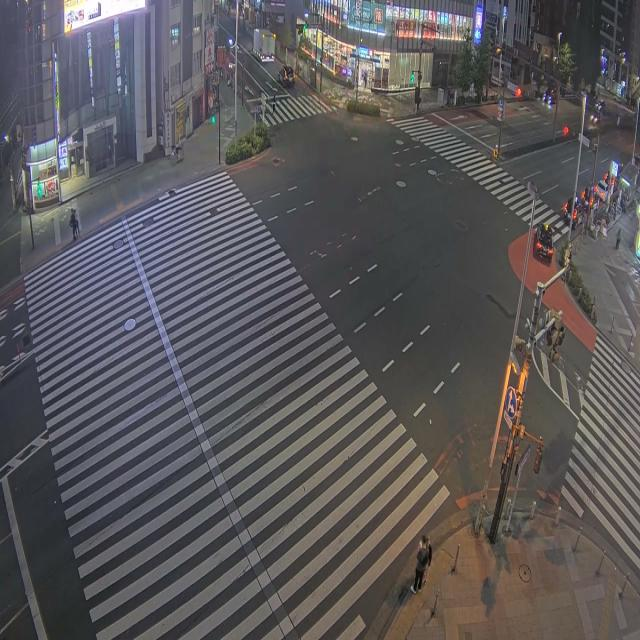car: (562, 191, 587, 226), (534, 224, 553, 261), (278, 66, 294, 87), (594, 180, 608, 202), (543, 89, 555, 105), (589, 111, 600, 126)
truck: (252, 29, 274, 62)
